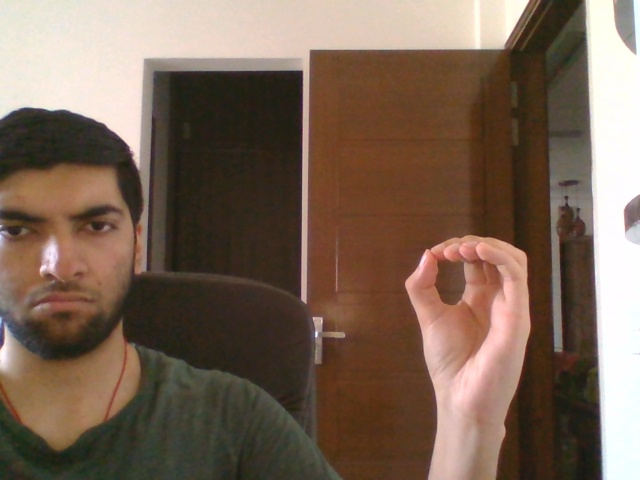LetterO: (402, 233, 534, 424)
